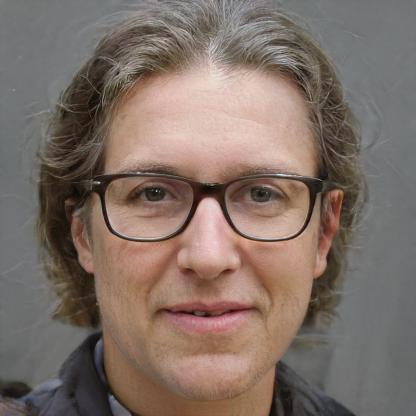glasses: (92, 166, 322, 247)
